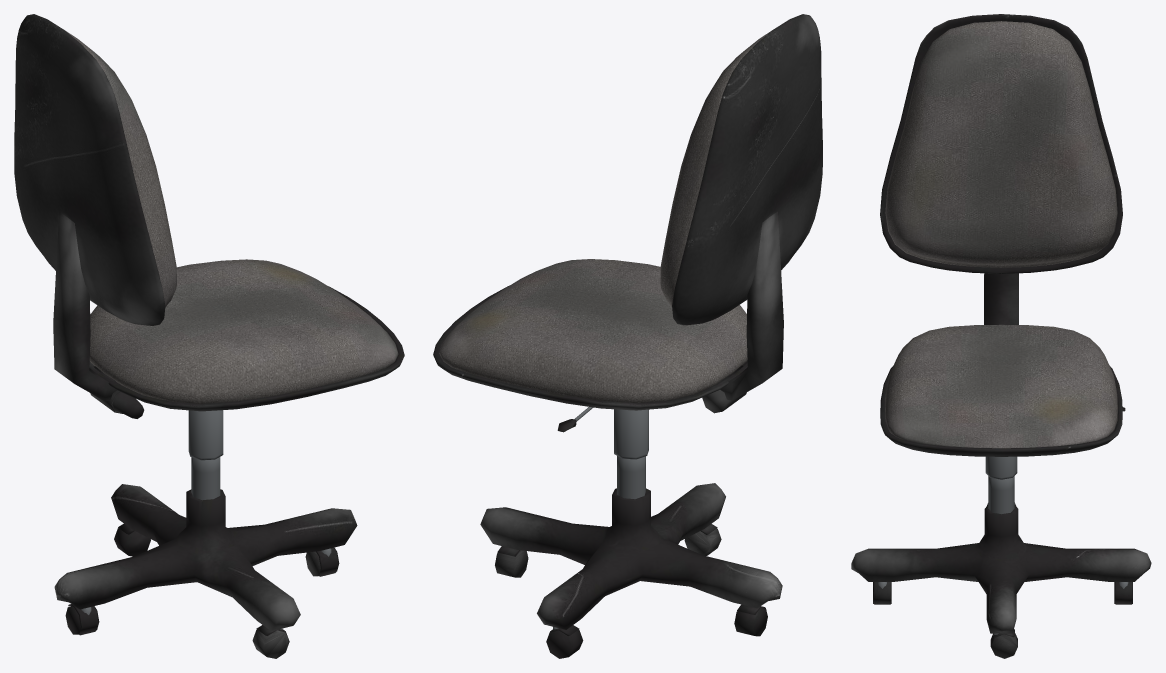
Rendered from silla.glb.
3 views of the same model, side by side, from view 1: azimuth 30°, elevation 25°; view 2: azimuth 150°, elevation 25°; view 3: azimuth 270°, elevation 25° (orthographic). The views are drawn at different scales.
Visible parts, largest first — view 1: defaultMaterial.002; view 2: defaultMaterial.002; view 3: defaultMaterial.002.
Part boxes in pixels (left/top/right/bottom): defaultMaterial.002: left=14, top=14, right=404, bottom=658; defaultMaterial.002: left=433, top=14, right=822, bottom=658; defaultMaterial.002: left=851, top=14, right=1151, bottom=658.
Bounding box in the file's own units: 1.08 × 2 × 1.03.
Materials: 3 (2 with a texture image).
